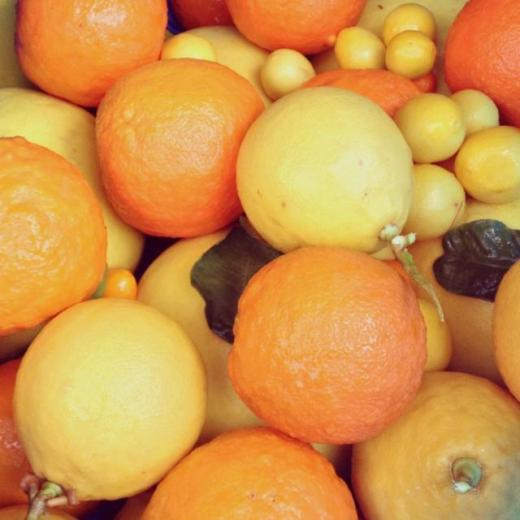Grape: (227, 246, 427, 444), (94, 58, 266, 238), (351, 370, 520, 520), (0, 135, 107, 337), (141, 428, 359, 520), (15, 1, 168, 108), (444, 0, 519, 128), (226, 0, 367, 56), (299, 67, 423, 120), (170, 1, 226, 31)
